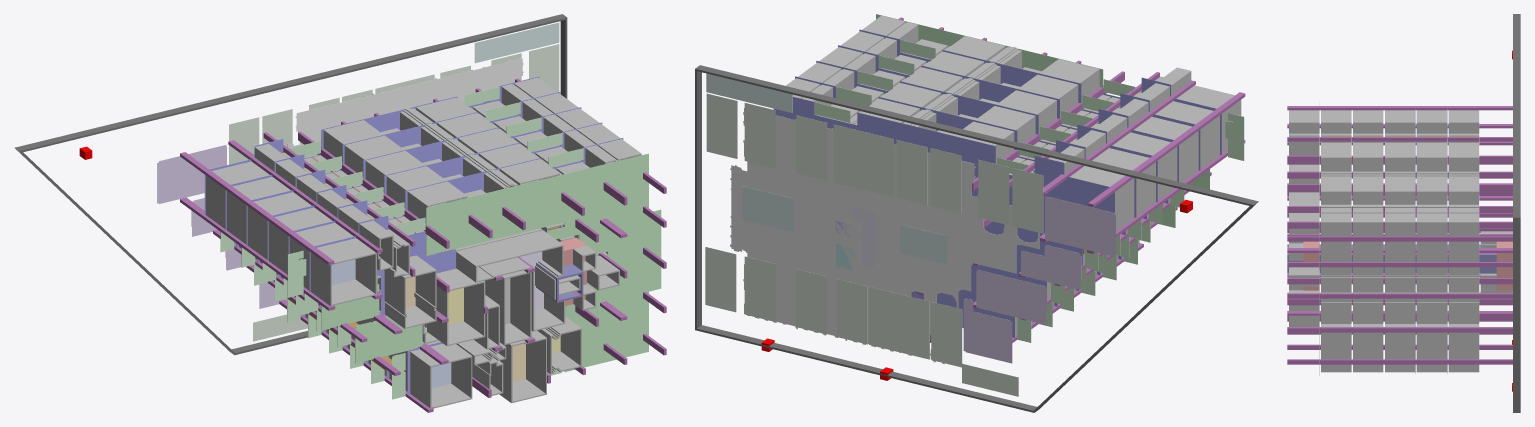
Rendered from laxmi-pushp.glb.
The picture shows the model from 3 angles, left to right: view 1: azimuth 30°, elevation 25°; view 2: azimuth 150°, elevation 25°; view 3: azimuth 270°, elevation 25°; orthographic projection. The views are drawn at different scales.
Parts seen in each view (by area): view 1: B1/L6/COMMON/OPEN_TERRACE, B1/SITE/PLOT, B1/L0/COMMON/PARKING_FLOOR, B1/L6/CORE/LOBBY/WALLS, B1/L6/F602/MASTER_BEDROOM/WALLS, B1/L6/F601/MASTER_BEDROOM/WALLS, B1/L6/F602/KITCHEN/WALLS, B1/L6/F602/LIVING_DINING/WALLS, B1/L0/SHOP-01, B1/L6/CORE/VENTILATION_SHAFT/WALLS, B1/L6/F601/LIVING_DINING/WALLS, B1/L6/F602/TERRACE_B (+40 smaller); view 2: B1/L0/COMMON/PARKING_FLOOR, B1/SITE/PLOT, B1/L0/SHOP-01, B1/L1/F03, B1/L1/F04, B1/L0/SHOP-03, B1/L0/SHOP-04, B1/L0/SHOP-02, B1/L0/PARK/CAR-07, B1/L0/PARK/CAR-09, B1/L0/PARK/CAR-08, B1/L0/PARK/CAR-01 (+51 smaller); view 3: B1/SITE/PLOT, B1/L1/F105/BEDROOM/WALLS, B1/L2/F205/BEDROOM/WALLS, B1/L3/F305/BEDROOM/WALLS, B1/L4/F405/BEDROOM/WALLS, B1/L5/F505/BEDROOM/WALLS, B1/L1/F101/BEDROOM/WALLS, B1/L2/F201/BEDROOM/WALLS, B1/L3/F301/BEDROOM/WALLS, B1/L4/F401/BEDROOM/WALLS, B1/L5/F501/BEDROOM/WALLS, B1/L6/CORE/LOBBY/WALLS (+49 smaller).
Part boxes in pixels (box(x1,y1,x2,y2)): B1/L6/COMMON/OPEN_TERRACE: box(426, 153, 661, 372); B1/SITE/PLOT: box(14, 14, 567, 355); B1/L0/COMMON/PARKING_FLOOR: box(254, 58, 523, 158); B1/L6/CORE/LOBBY/WALLS: box(456, 230, 565, 331); B1/L6/F602/MASTER_BEDROOM/WALLS: box(310, 238, 376, 306); B1/L6/F601/MASTER_BEDROOM/WALLS: box(410, 343, 472, 408); B1/L6/F602/KITCHEN/WALLS: box(427, 269, 485, 346); B1/L6/F602/LIVING_DINING/WALLS: box(384, 255, 436, 328); B1/L0/SHOP-01: box(157, 145, 226, 203); B1/L6/CORE/VENTILATION_SHAFT/WALLS: box(485, 270, 531, 345); B1/L6/F601/LIVING_DINING/WALLS: box(499, 331, 546, 403); B1/L6/F602/TERRACE_B: box(355, 317, 422, 363); B1/L0/COMMON/PARKING_FLOOR: box(730, 107, 1039, 364); B1/SITE/PLOT: box(695, 65, 1258, 412); B1/L0/SHOP-01: box(1045, 196, 1115, 256); B1/L1/F03: box(971, 156, 1114, 268); B1/L1/F04: box(857, 112, 995, 192); B1/L0/SHOP-03: box(976, 269, 1046, 324); B1/L0/SHOP-04: box(963, 298, 1012, 363); B1/L0/SHOP-02: box(1021, 245, 1081, 289); B1/L0/PARK/CAR-07: box(796, 115, 827, 180); B1/L0/PARK/CAR-09: box(706, 93, 737, 158); B1/L0/PARK/CAR-08: box(744, 103, 775, 168); B1/L0/PARK/CAR-01: box(1012, 168, 1043, 233); B1/SITE/PLOT: box(1513, 14, 1520, 412); B1/L1/F105/BEDROOM/WALLS: box(1448, 208, 1478, 261); B1/L2/F205/BEDROOM/WALLS: box(1416, 208, 1446, 261); B1/L3/F305/BEDROOM/WALLS: box(1385, 208, 1415, 261); B1/L4/F405/BEDROOM/WALLS: box(1353, 208, 1383, 261); B1/L5/F505/BEDROOM/WALLS: box(1321, 208, 1351, 261); B1/L1/F101/BEDROOM/WALLS: box(1448, 324, 1478, 372); B1/L2/F201/BEDROOM/WALLS: box(1416, 324, 1446, 372); B1/L3/F301/BEDROOM/WALLS: box(1385, 324, 1415, 372); B1/L4/F401/BEDROOM/WALLS: box(1353, 324, 1383, 372); B1/L5/F501/BEDROOM/WALLS: box(1321, 324, 1351, 372); B1/L6/CORE/LOBBY/WALLS: box(1289, 192, 1319, 243).
Bounding box in the file's own units: 45.3 × 20.55 × 21.9.
